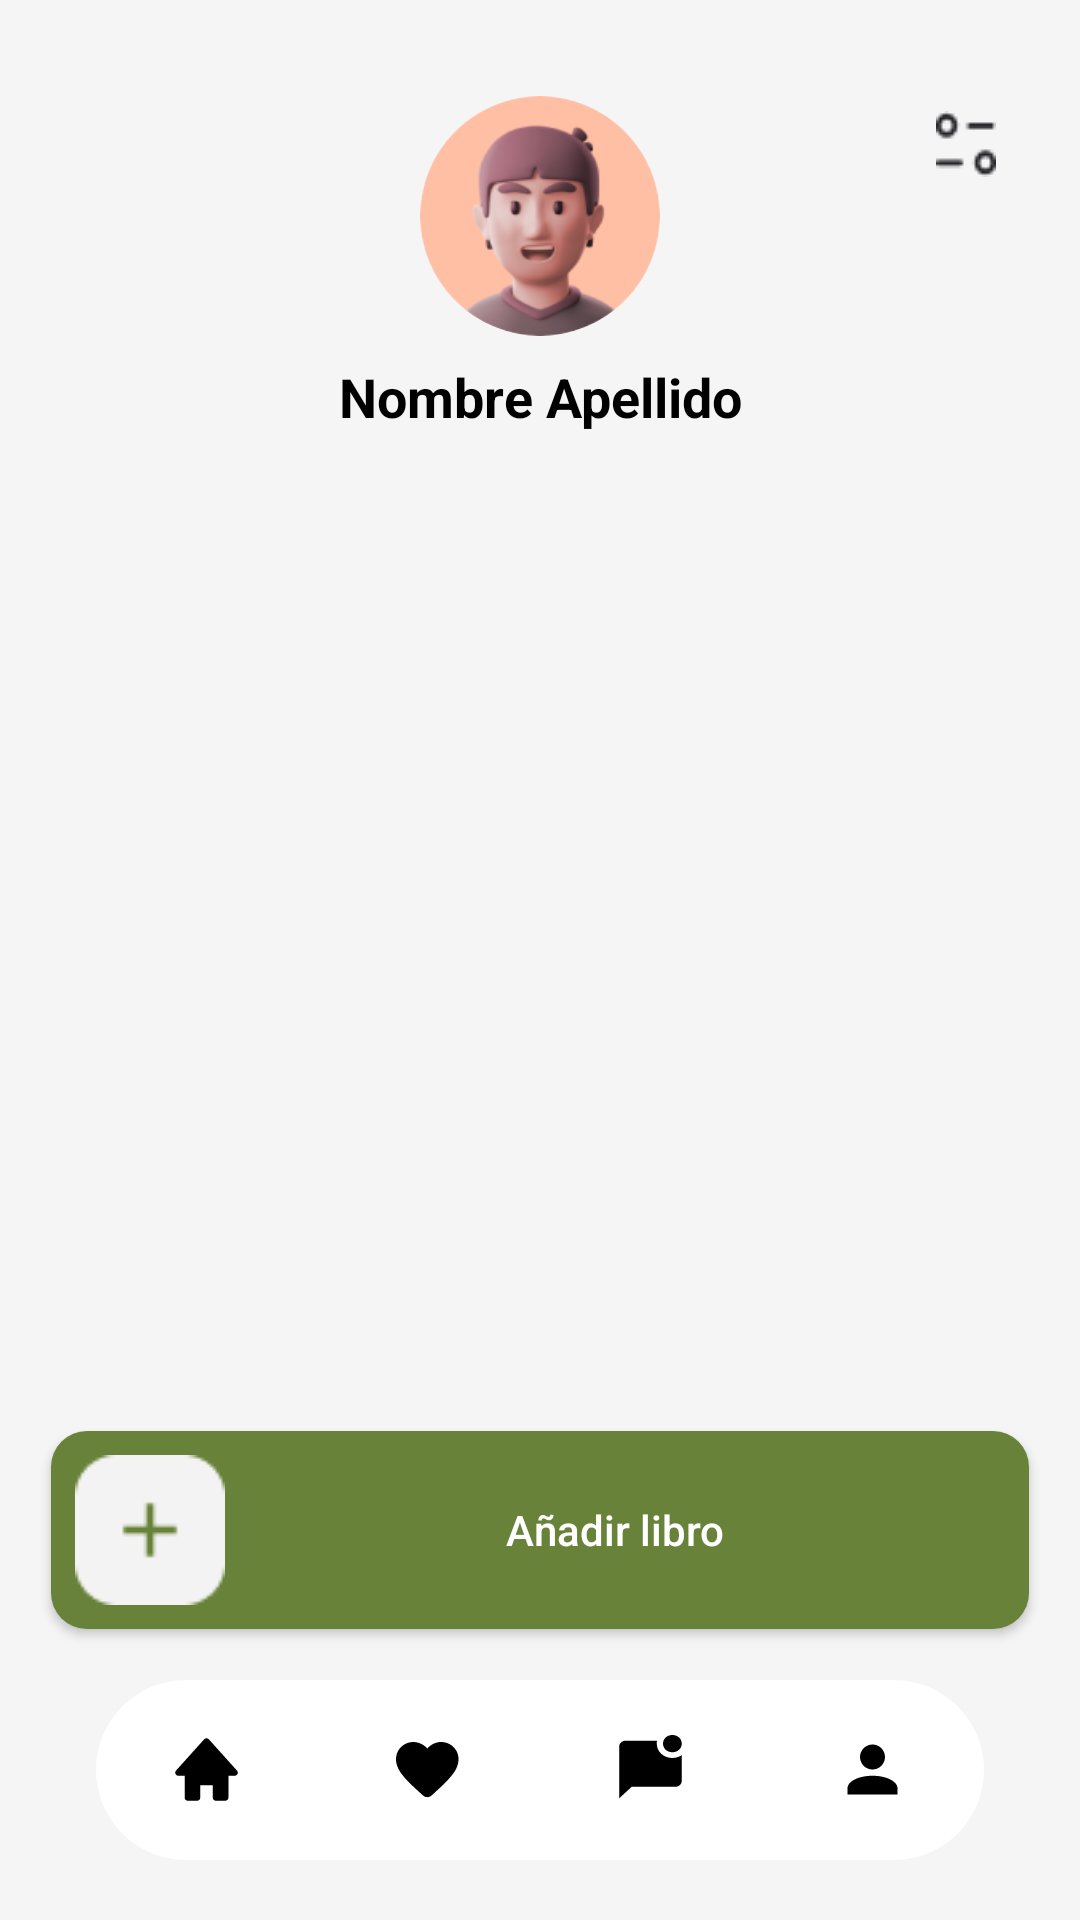

Screen size 1080px x 1920px. Icon name, then its box in pixels as (x1, y1, x2, y2):
Ajustes: (936, 111, 996, 177)
